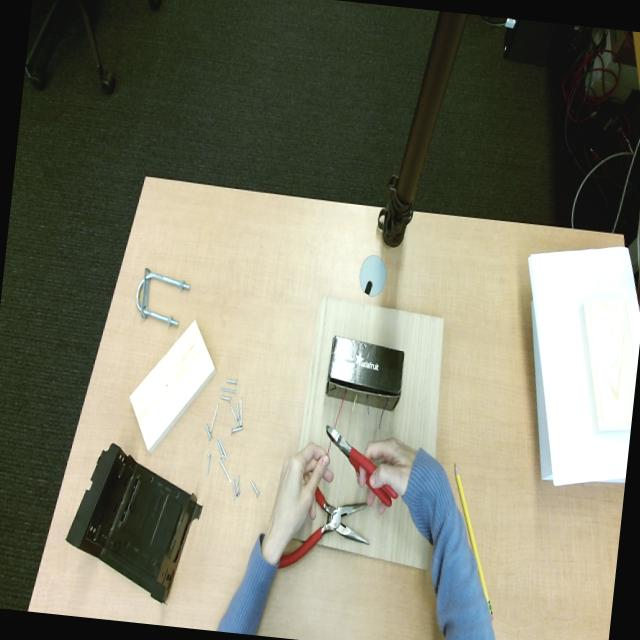pliers: (278, 488, 368, 568), (326, 427, 397, 506)
